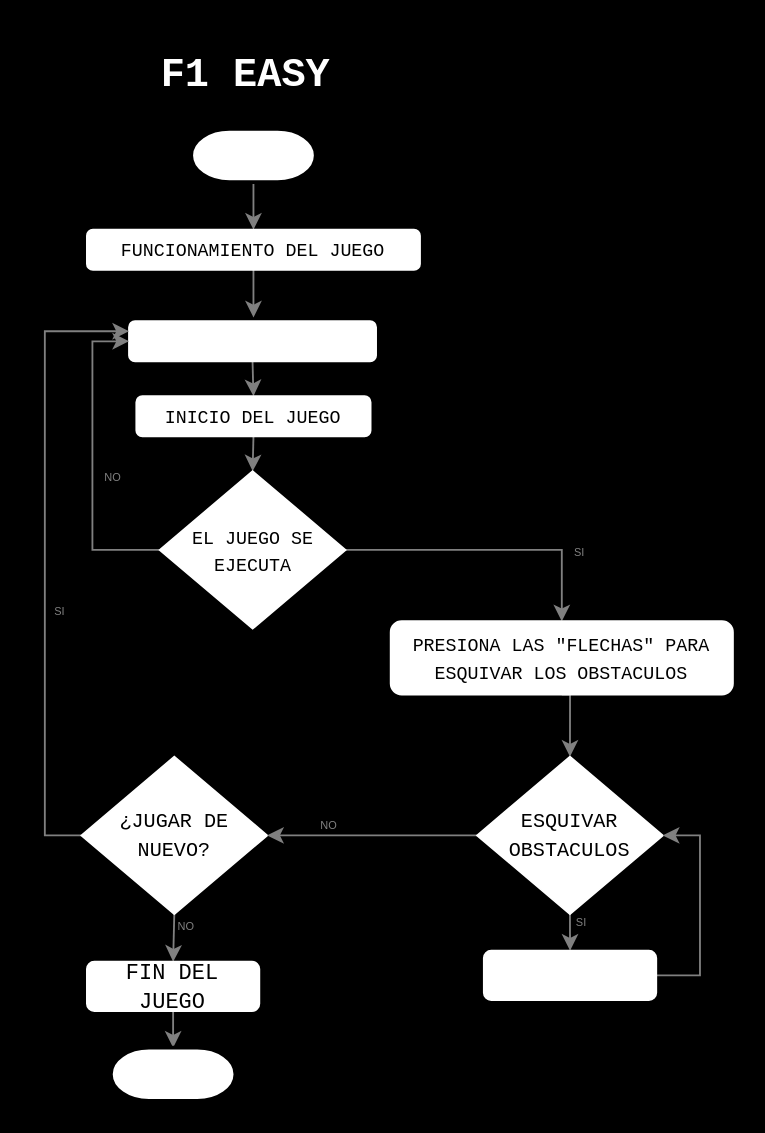
The diagram is 765 pixels wide and 1133 high, and some of its shapes have lost their labels. Here are the shapes that lost their labels. From the top down, the centre of each, then its label:
At (x=252, y=154): "INICIO".
At (x=251, y=340): "EJECUTAR EL JUEGO".
At (x=569, y=974): "SEGUIR JUGANDO".
At (x=172, y=1073): "FIN".
